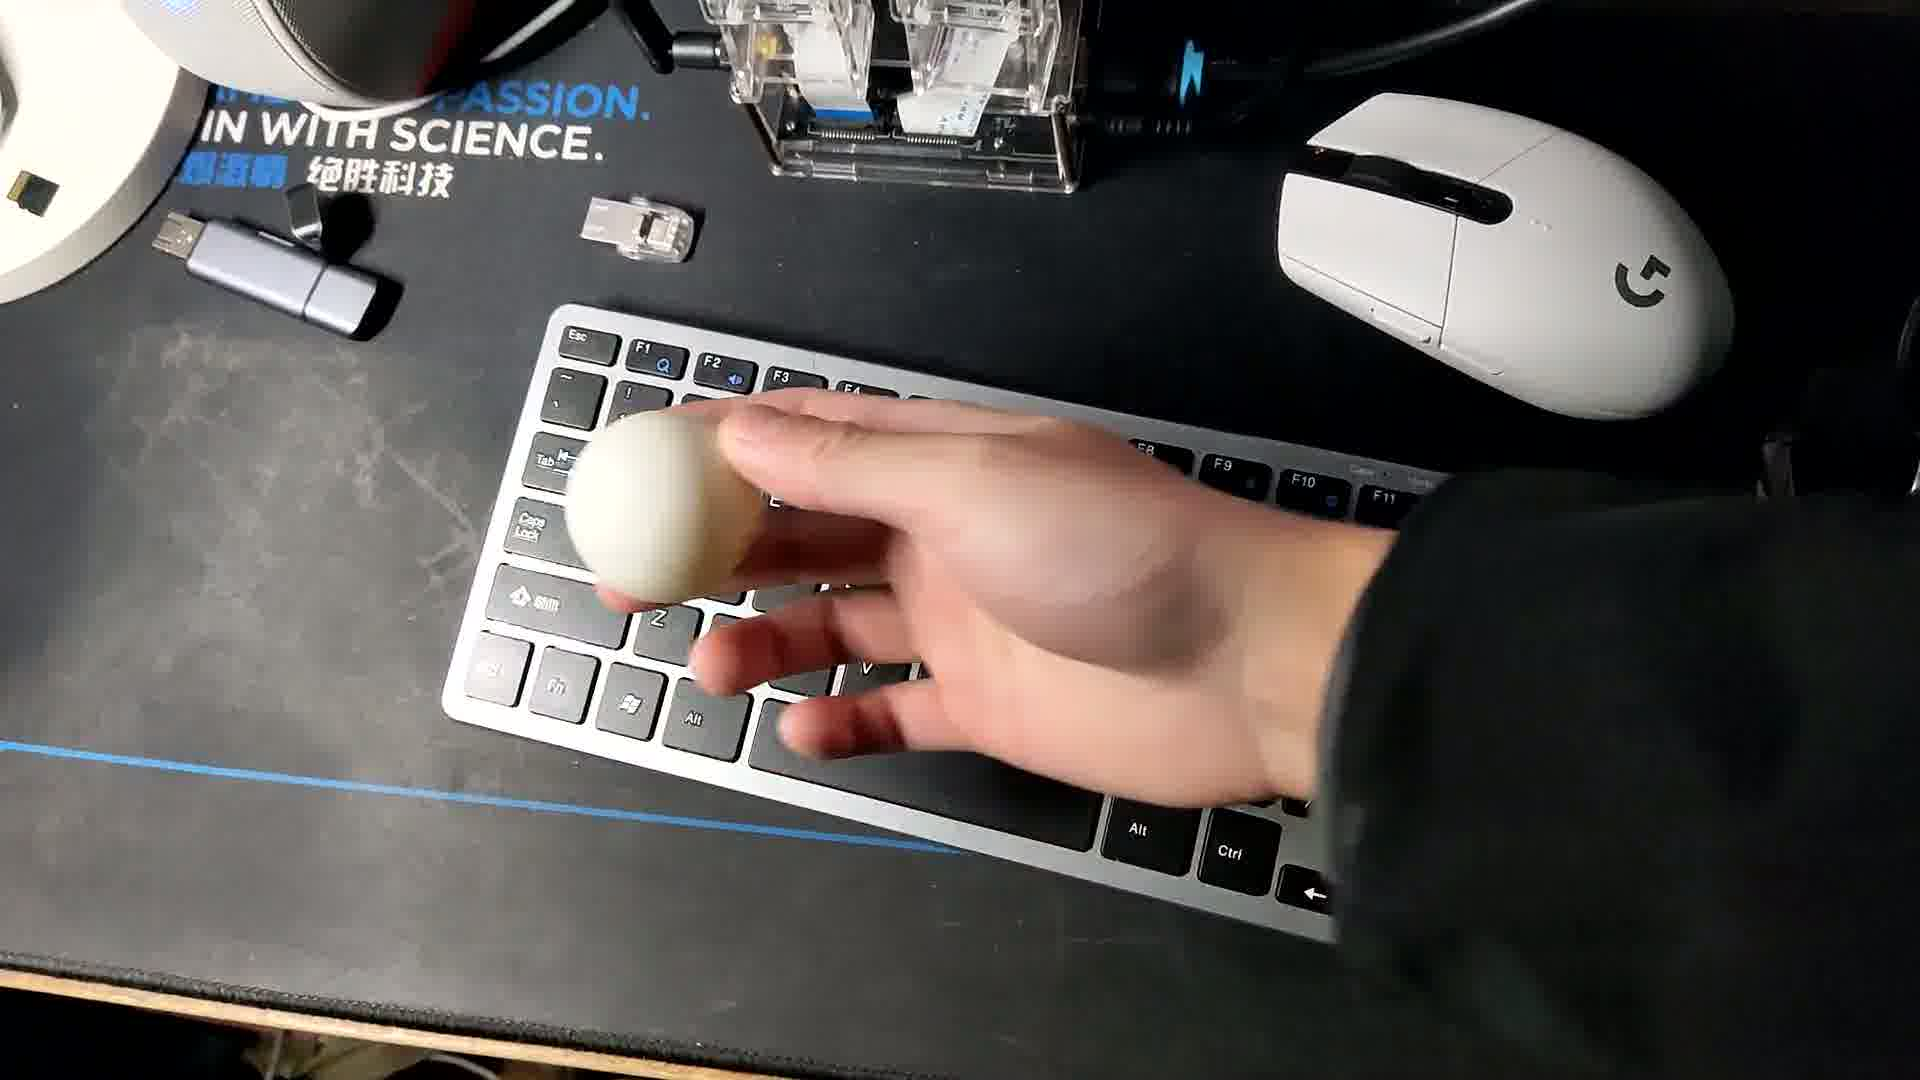Ball: (564, 414, 770, 600)
